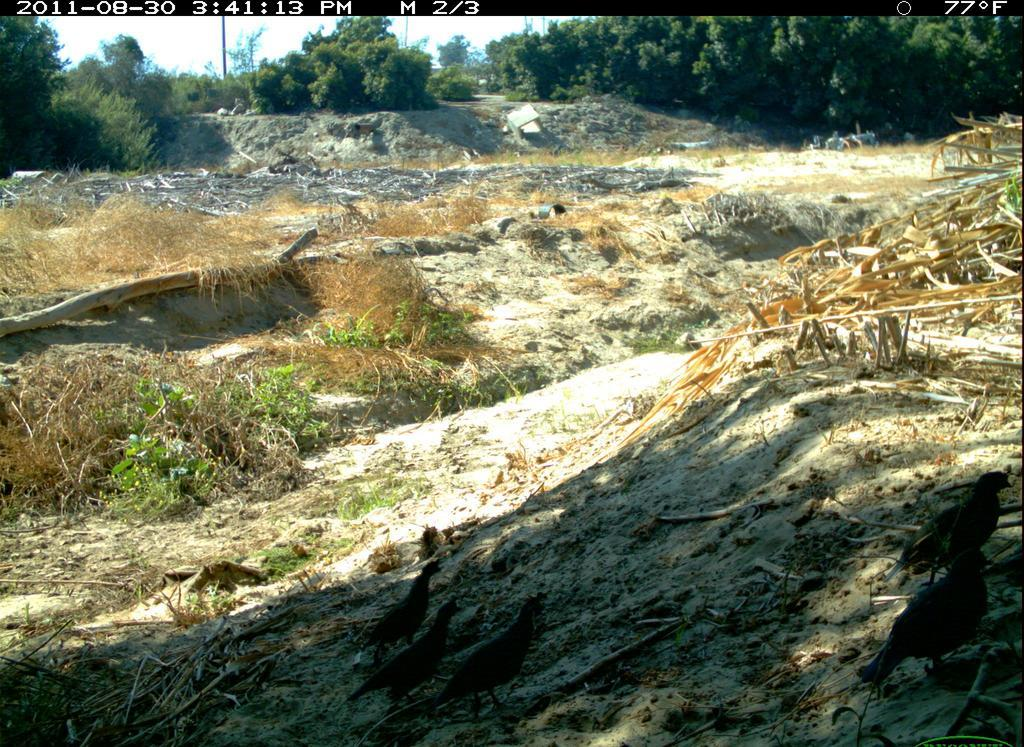bird: (345, 596, 467, 714)
